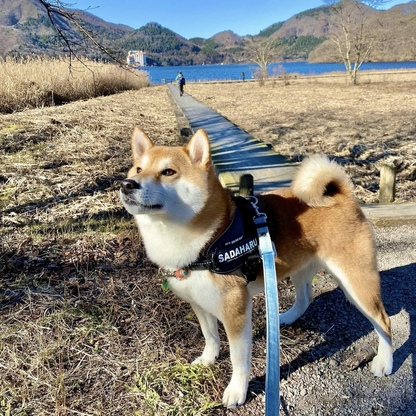shiba: (116, 122, 396, 410)
